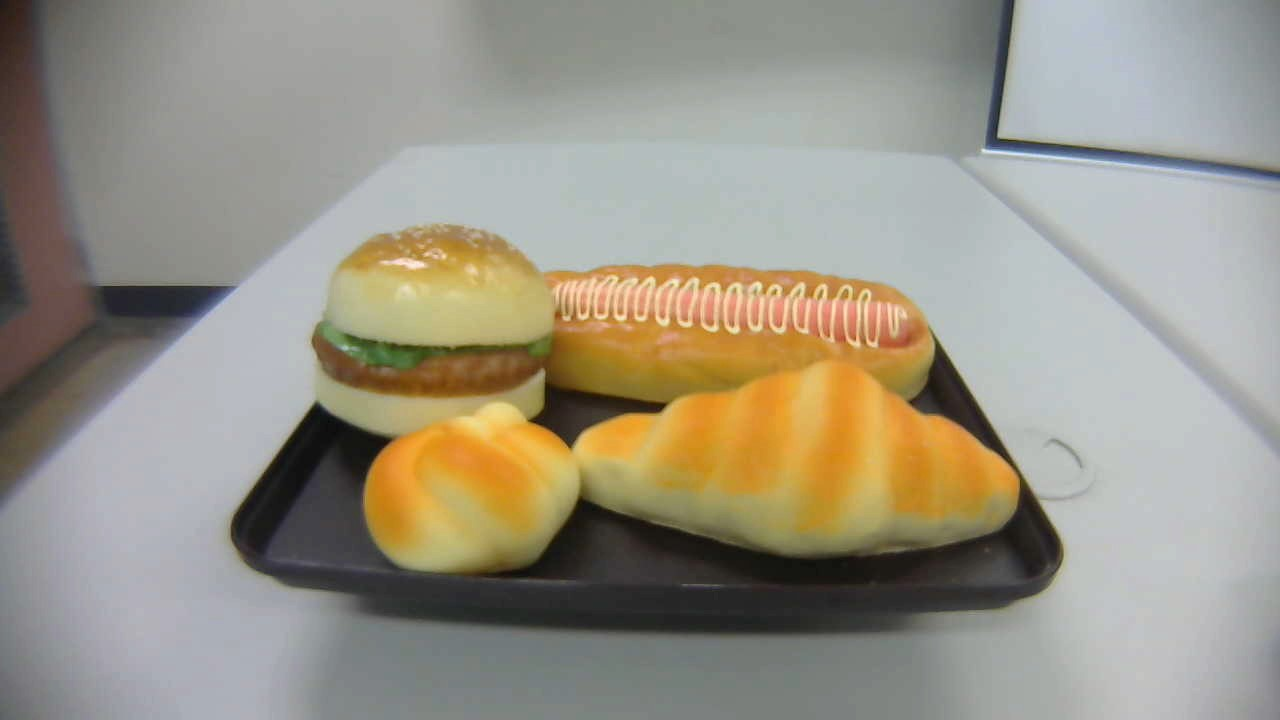croissant: (567, 360, 1021, 555)
hamburger: (312, 223, 559, 431)
hot dog: (528, 263, 936, 409)
twist bread: (364, 401, 581, 575)
